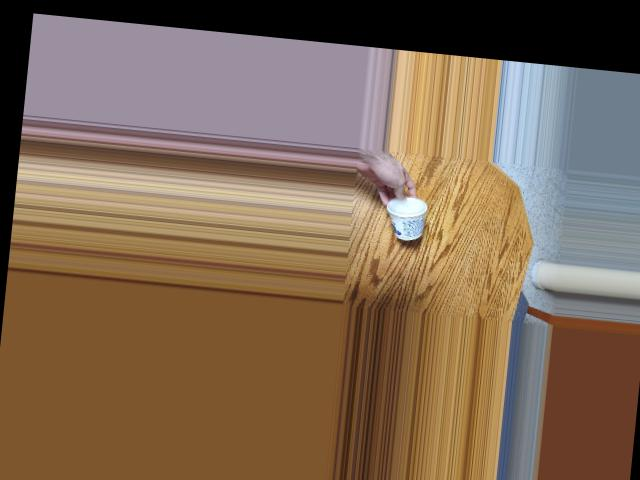cotage: (388, 199, 436, 247)
